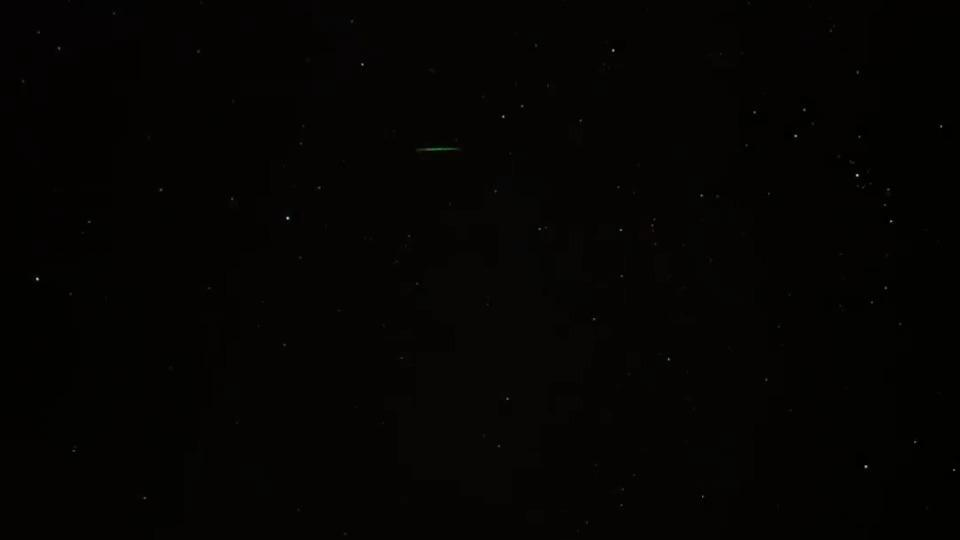meteorite: (394, 138, 480, 160)
